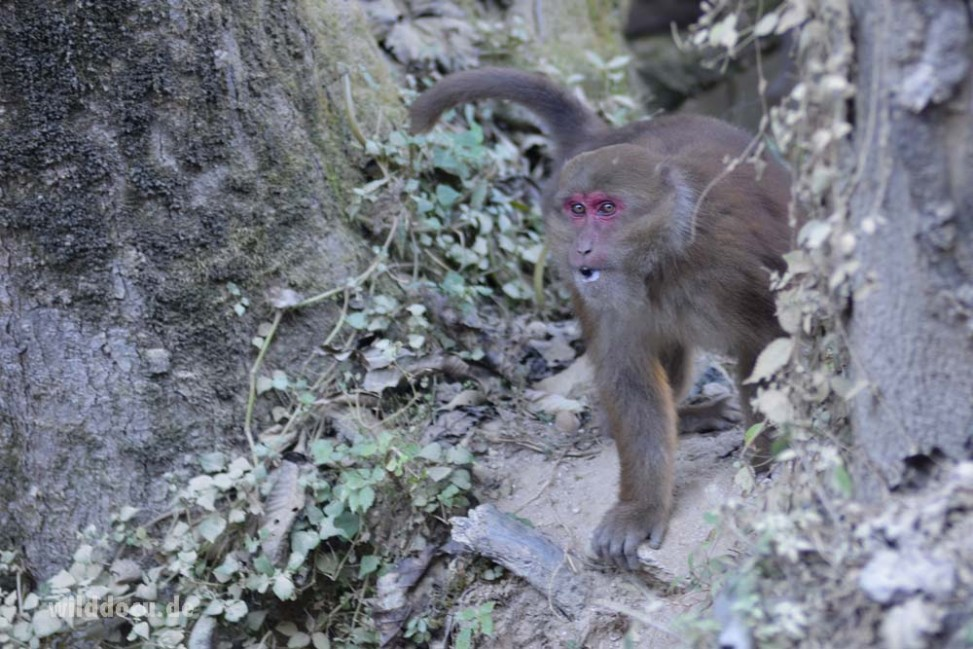monkey: (400, 62, 807, 588)
